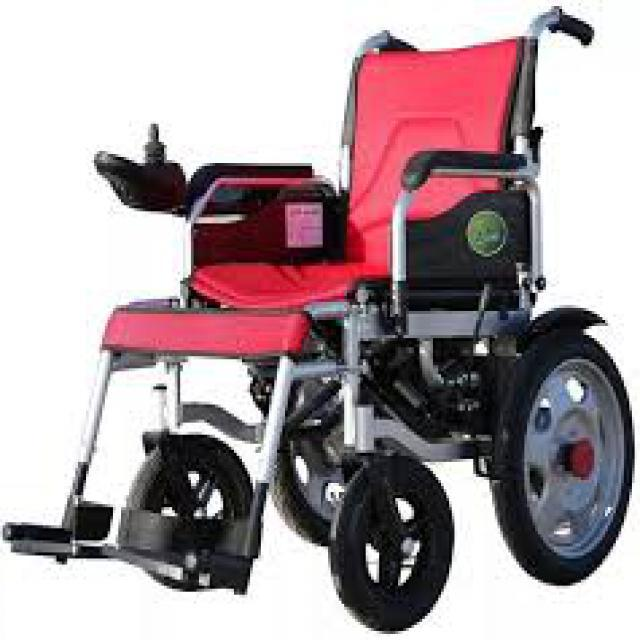wheelchair: (0, 3, 632, 619)
